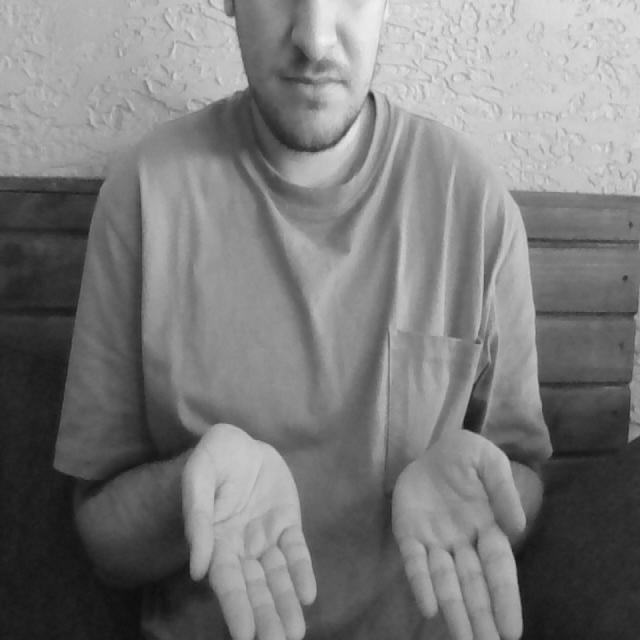Evet: (172, 412, 528, 640)
